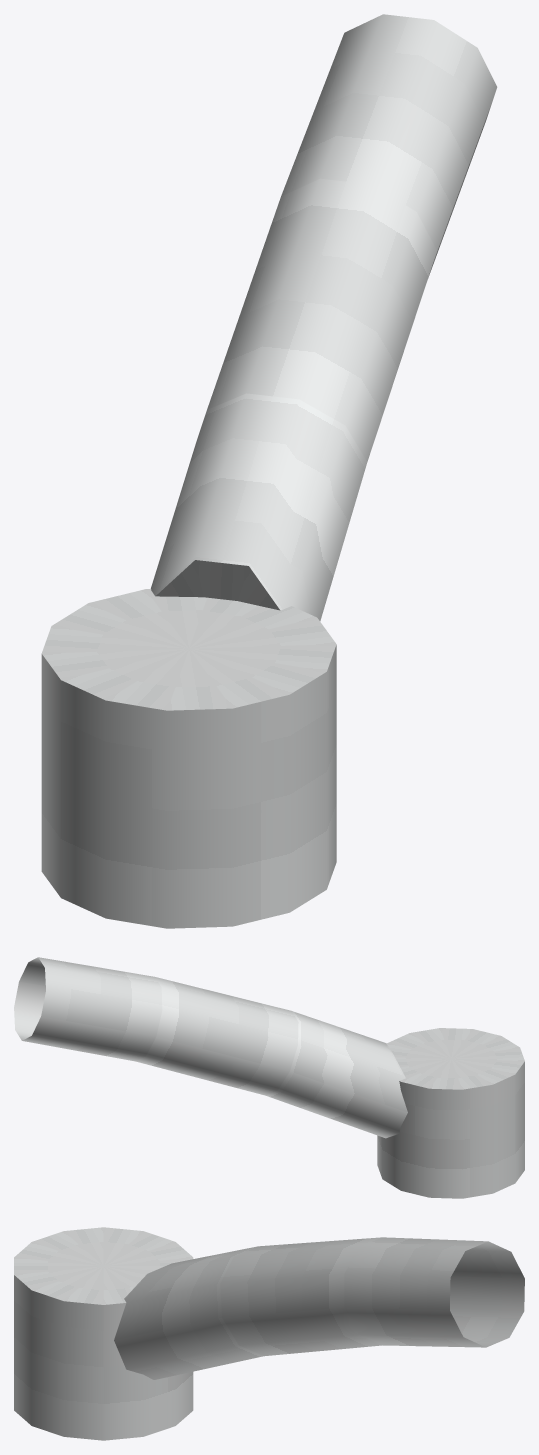
File: nycsignalarm_diagonal6_c1_thin.obj
3 views of the same model, one above another, from view 1: azimuth 30°, elevation 25°; view 2: azimuth 150°, elevation 25°; view 3: azimuth 270°, elevation 25° (orthographic). The views are drawn at different scales.
Visible parts, largest first — view 1: nycsignalarm_diagonal6_c1_thin; view 2: nycsignalarm_diagonal6_c1_thin; view 3: nycsignalarm_diagonal6_c1_thin.
Part boxes in pixels (x1,y1,x2,y2): nycsignalarm_diagonal6_c1_thin: (41,14,497,928); nycsignalarm_diagonal6_c1_thin: (14,957,524,1198); nycsignalarm_diagonal6_c1_thin: (14,1227,524,1440).
Size of the model in its own units: 1.59 by 1.07 by 1.58.
